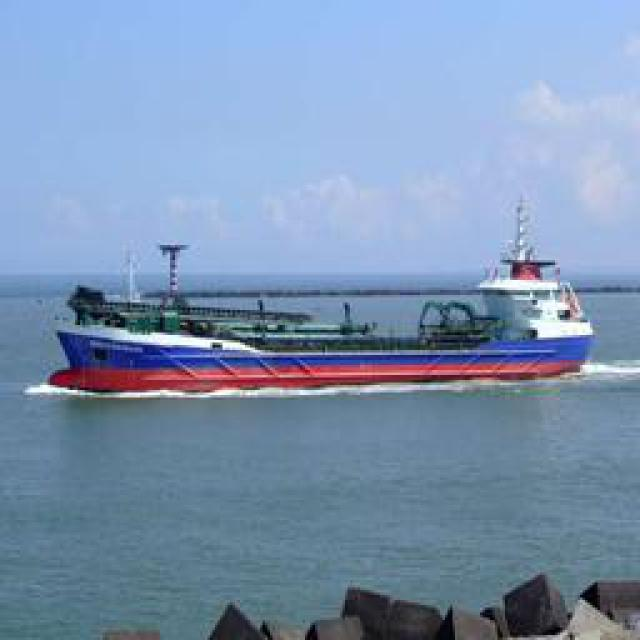Ship: (60, 250, 593, 400)
